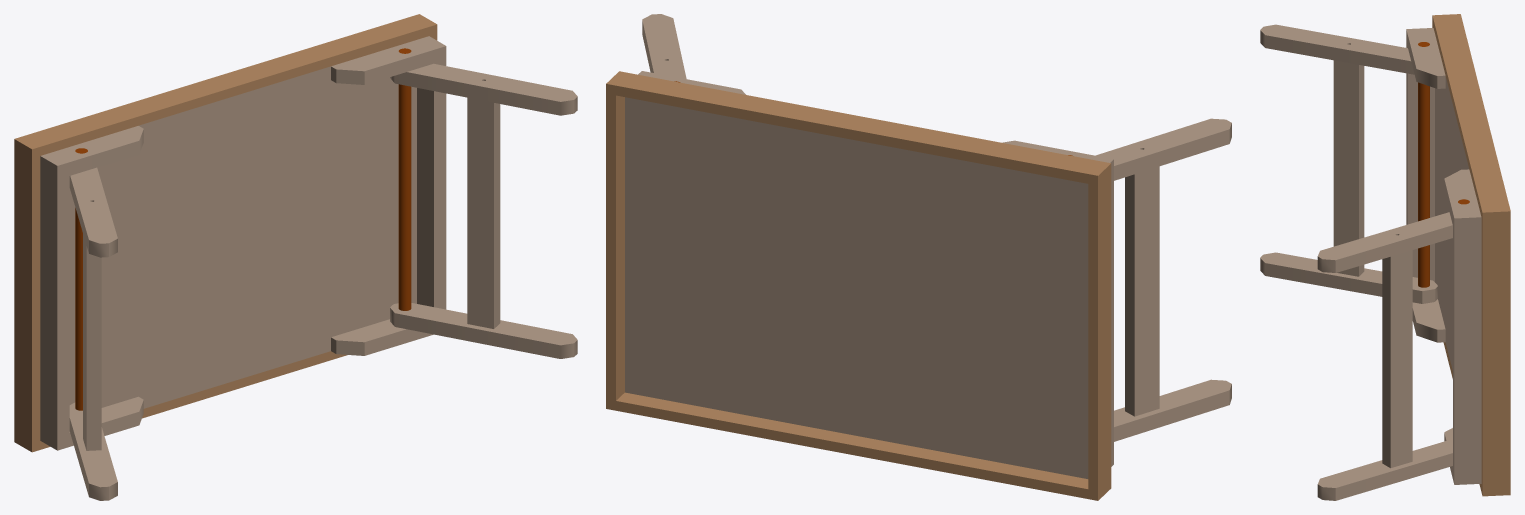
File: folding_tray_table.glb
3 views of the same model, side by side, from view 1: azimuth 30°, elevation 25°; view 2: azimuth 150°, elevation 25°; view 3: azimuth 270°, elevation 25° (orthographic). The views are drawn at different scales.
Visible parts, largest first — view 1: Object_2; view 2: Object_2; view 3: Object_2.
Part boxes in pixels (bbox=[...]): Object_2: bbox=[14, 14, 577, 500]; Object_2: bbox=[606, 14, 1231, 500]; Object_2: bbox=[1260, 14, 1510, 500].
Size of the model in its own units: 29.38 by 16.5 by 13.21.
